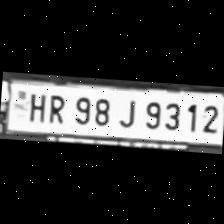1: (180, 99, 200, 132)
2: (198, 100, 222, 134)
3: (160, 98, 182, 130)
8: (89, 93, 113, 126)
9: (67, 91, 93, 125), (139, 97, 163, 128)
H: (24, 88, 46, 120)
J: (113, 94, 139, 128)
R: (43, 90, 67, 124)
